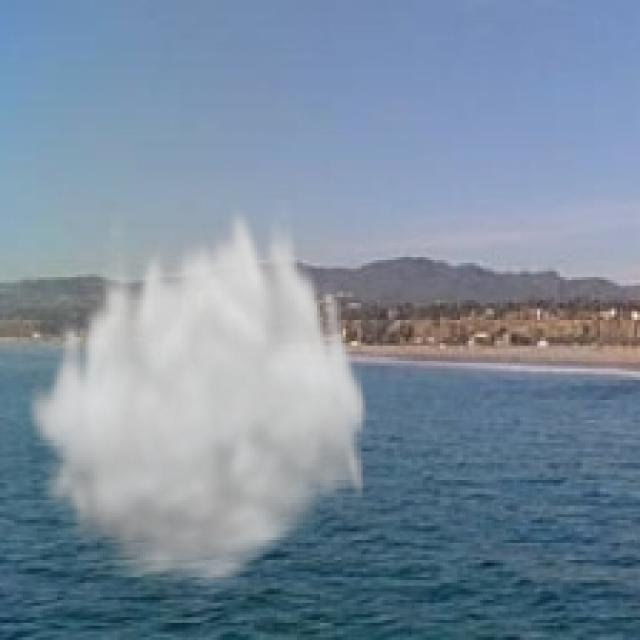Smoke: (22, 195, 372, 594)
